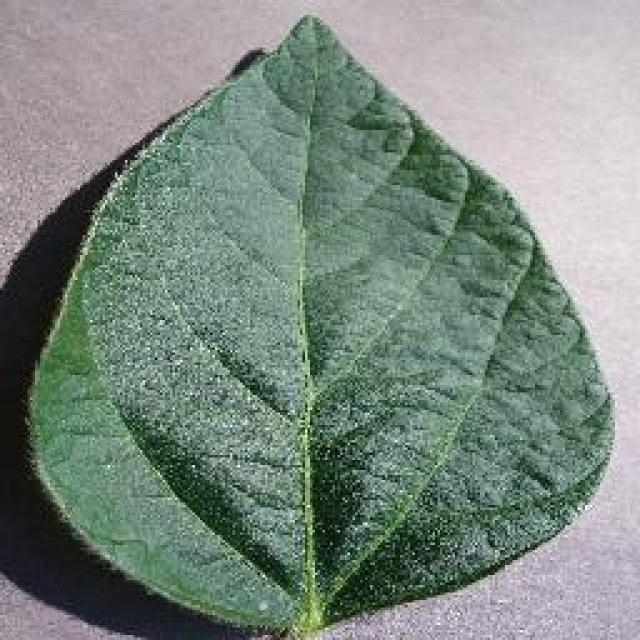Soy_healthy: (59, 75, 590, 569)
